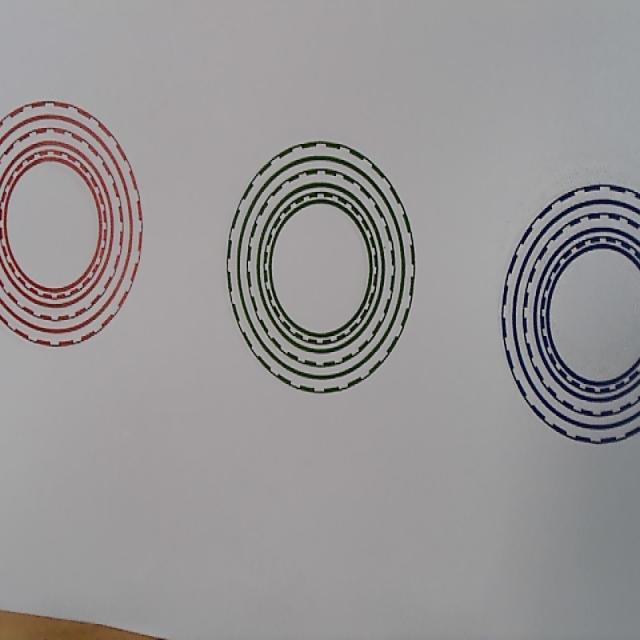g: (226, 141, 415, 394)
